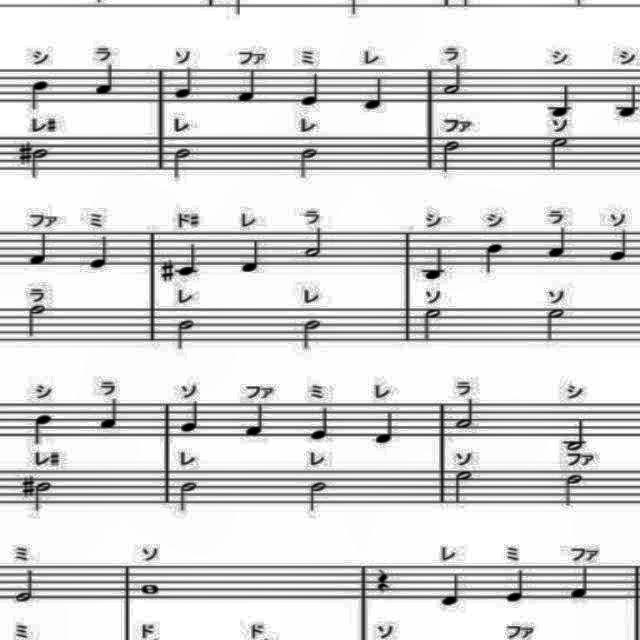Diez: (16, 137, 34, 167), (158, 256, 176, 284), (18, 472, 36, 500)
Full-note: (138, 579, 162, 601)
Half-note: (166, 314, 202, 354), (296, 224, 332, 260), (448, 465, 478, 507), (304, 478, 338, 514), (418, 306, 448, 346), (297, 313, 327, 352), (561, 415, 591, 453), (546, 134, 574, 174), (542, 306, 570, 346), (558, 468, 586, 508), (296, 144, 324, 182), (178, 478, 204, 518), (440, 62, 468, 98), (13, 564, 35, 608), (452, 400, 480, 434), (442, 138, 463, 180), (26, 302, 48, 342), (168, 146, 192, 182), (32, 478, 54, 516), (30, 145, 50, 179)
Quarter-note: (418, 242, 454, 286), (304, 400, 336, 444), (88, 60, 122, 100), (172, 242, 204, 282), (241, 400, 273, 440), (370, 404, 402, 444), (234, 65, 264, 107), (500, 566, 530, 608), (356, 71, 384, 115), (82, 236, 116, 272), (171, 64, 199, 104), (300, 69, 328, 109), (236, 236, 264, 276), (604, 226, 632, 264), (94, 397, 122, 435), (438, 573, 466, 611), (28, 232, 52, 276), (568, 562, 594, 602), (612, 82, 640, 118), (550, 82, 576, 118), (28, 409, 52, 447), (178, 395, 202, 433), (480, 241, 506, 275), (545, 229, 571, 261), (30, 77, 50, 116)
Quarter-rest: (376, 568, 394, 596)
